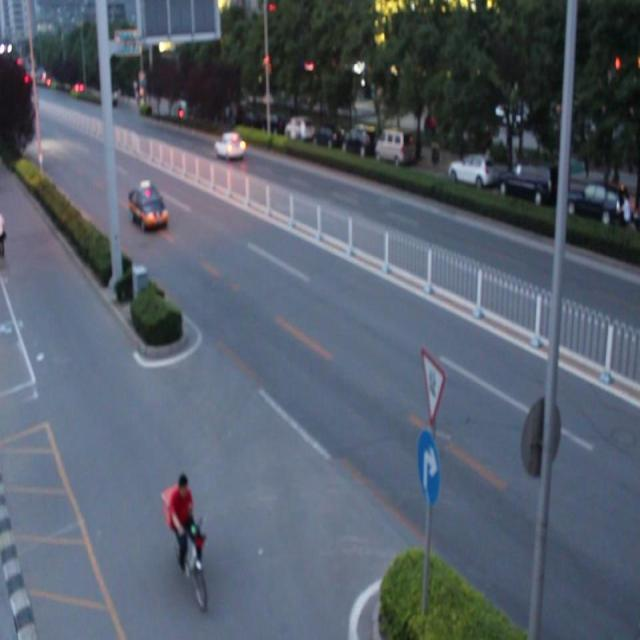car: (127, 181, 168, 228)
